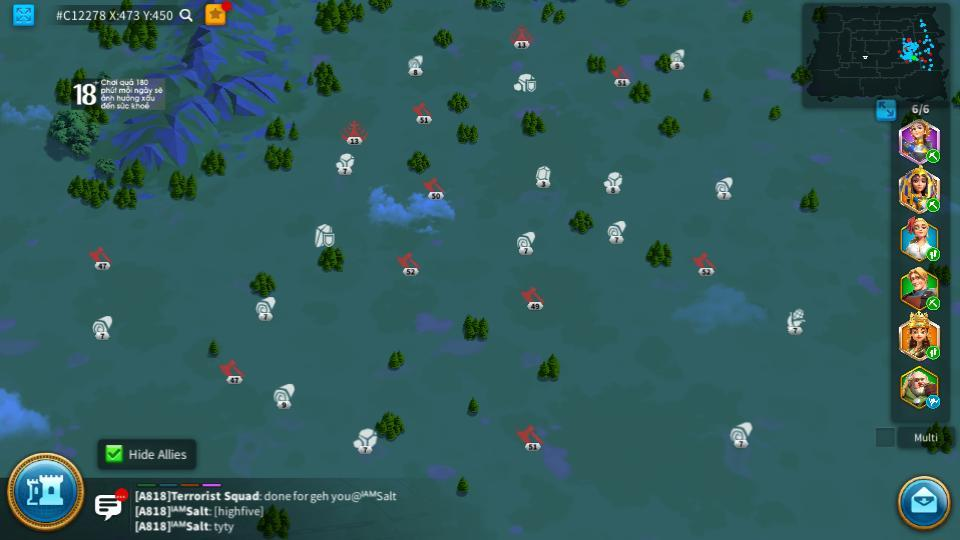gem-z-out: (535, 165, 552, 186)
march_idle: (925, 396, 942, 408)
march_marching: (925, 196, 941, 211), (925, 345, 941, 359), (925, 150, 942, 162), (925, 297, 942, 308)
